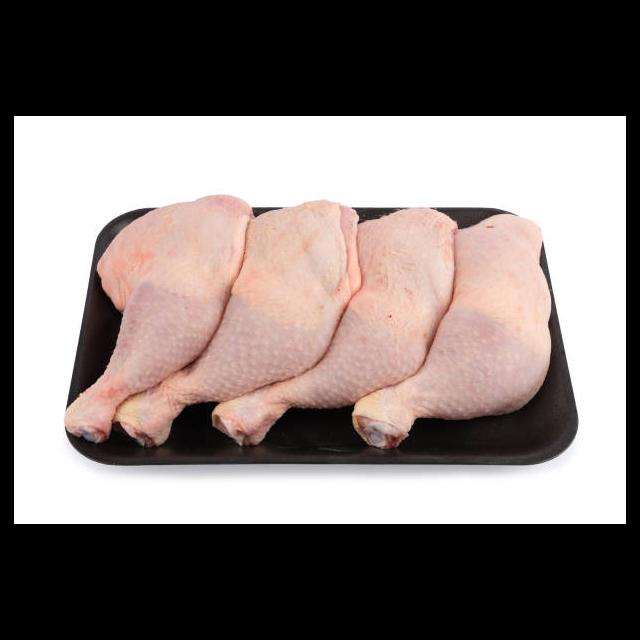chicken: (117, 201, 362, 443), (212, 211, 457, 443), (350, 214, 554, 447), (67, 194, 255, 441)
